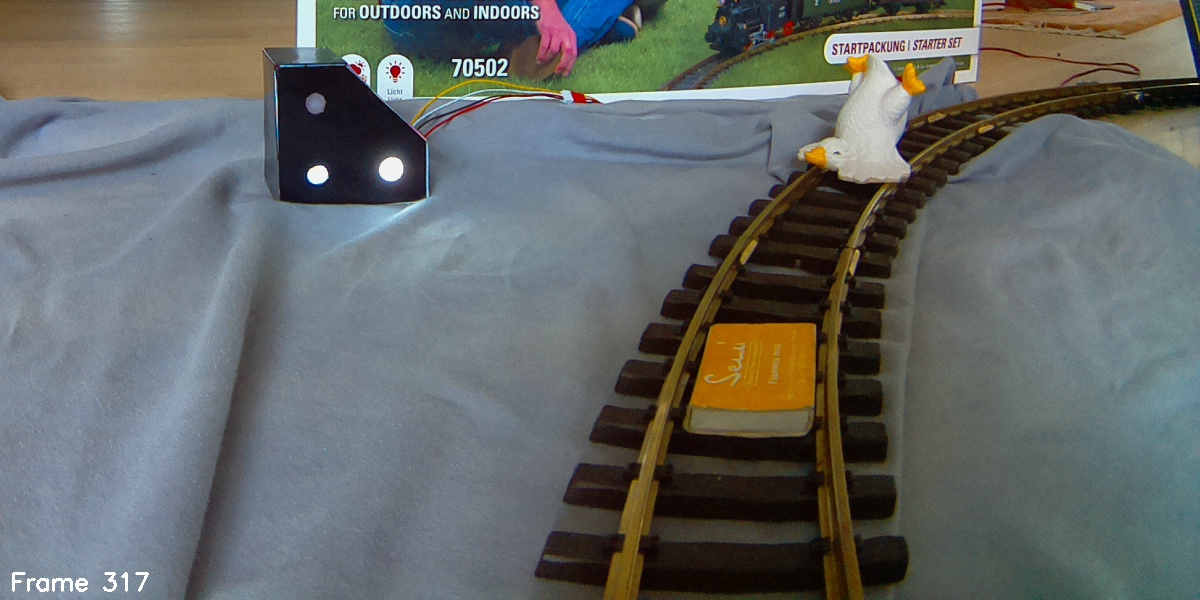Ente: (790, 47, 927, 194)
Halt: (262, 46, 429, 203)
